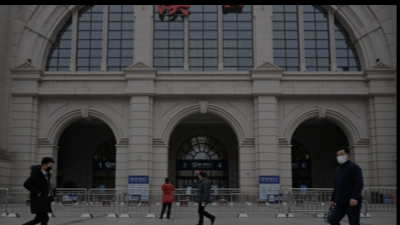with_mask: (336, 151, 349, 164), (45, 163, 54, 173)
